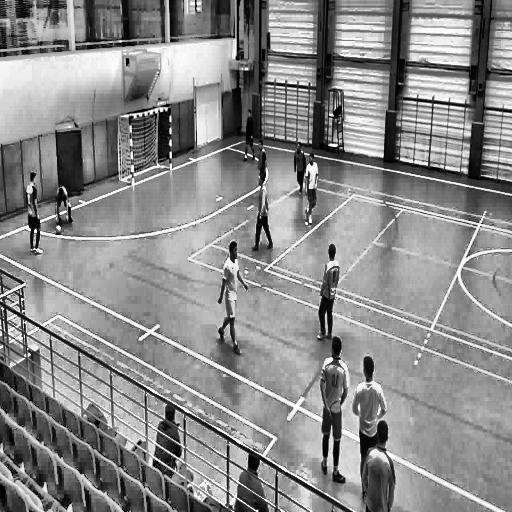ball: (53, 222, 63, 236)
player: (352, 355, 388, 506), (318, 338, 350, 488), (217, 242, 248, 357), (362, 420, 396, 512), (152, 397, 188, 474), (234, 446, 272, 512), (315, 244, 340, 343), (250, 174, 273, 256), (25, 171, 42, 259), (303, 152, 319, 226), (241, 108, 256, 164), (293, 141, 306, 204), (55, 183, 73, 224), (256, 138, 268, 192)
